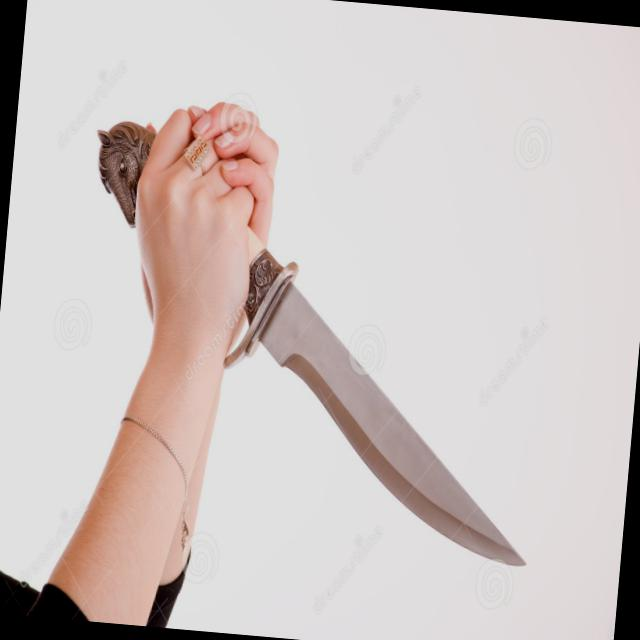knife: (133, 92, 578, 576)
